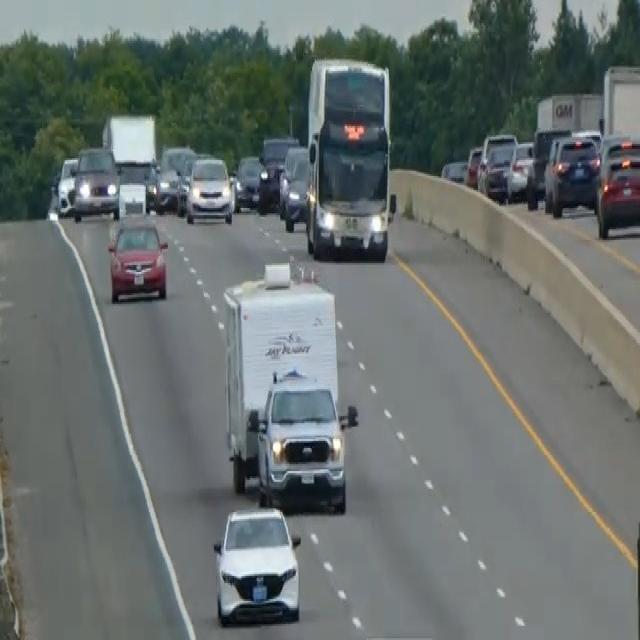bus: (302, 54, 396, 262)
car: (212, 503, 302, 626), (106, 214, 169, 302), (543, 131, 599, 217), (595, 139, 639, 238), (525, 124, 571, 204), (72, 144, 120, 220), (185, 153, 233, 224), (258, 133, 298, 210), (477, 131, 516, 201), (155, 144, 195, 212), (279, 144, 309, 229), (117, 160, 158, 217), (506, 139, 535, 201), (233, 153, 262, 211), (153, 162, 182, 213), (160, 142, 194, 183), (55, 155, 78, 215), (257, 156, 281, 210), (175, 155, 196, 213), (464, 144, 483, 188), (440, 156, 467, 185)
truck: (219, 258, 358, 512)
